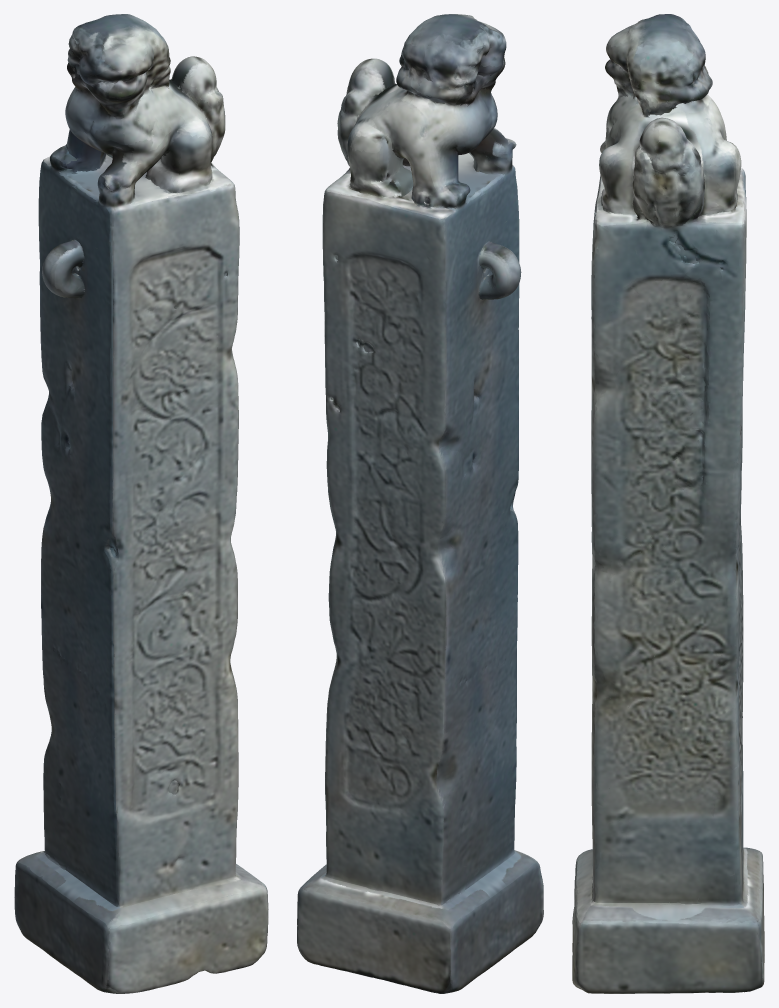
File: hitching-post_raw.glb
3 views of the same model, side by side, from view 1: azimuth 30°, elevation 25°; view 2: azimuth 150°, elevation 25°; view 3: azimuth 270°, elevation 25° (orthographic).
Parts seen in each view (by area): view 1: geometry_0; view 2: geometry_0; view 3: geometry_0.
Part boxes in pixels (left/top/right/bottom): geometry_0: left=14, top=14, right=268, bottom=993; geometry_0: left=297, top=14, right=543, bottom=993; geometry_0: left=572, top=14, right=764, bottom=993.
Bounding box in the file's own units: 0.3632 × 1.8 × 0.3415.
Materials: 1 (1 with a texture image).
